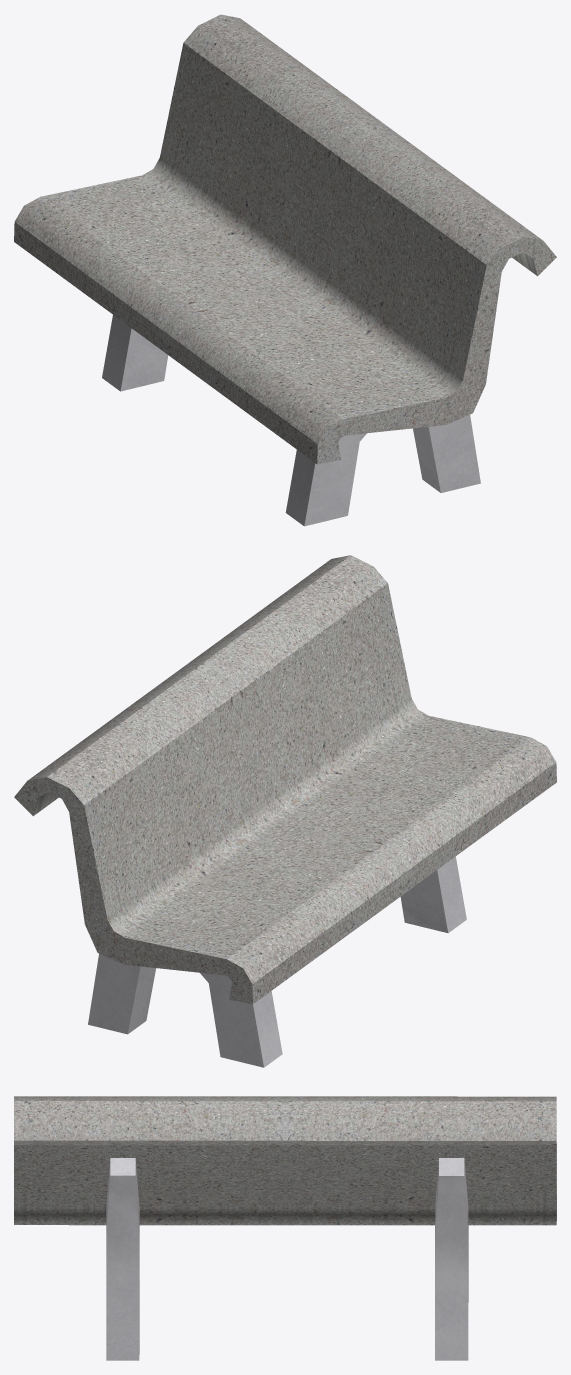
File: banco.fbx
3 views of the same model, one above another, from view 1: azimuth 30°, elevation 25°; view 2: azimuth 150°, elevation 25°; view 3: azimuth 270°, elevation 25° (orthographic). The views are drawn at different scales.
Parts seen in each view (by area): view 1: banco; view 2: banco; view 3: banco.
Part boxes in pixels (bbox=[...]): banco: bbox=[14, 14, 556, 526]; banco: bbox=[14, 555, 556, 1067]; banco: bbox=[14, 1096, 556, 1360].
Bounding box in the file's own units: 0.9087 × 1.04 × 1.99.
